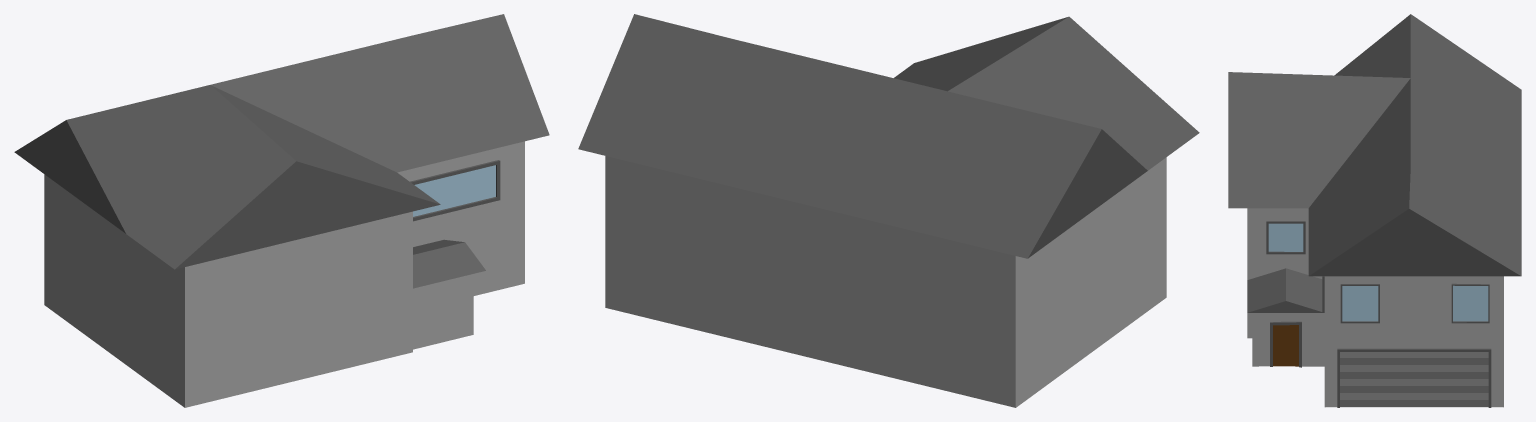
File: greyscale residential building 2.fbx
The picture shows the model from 3 angles, left to right: view 1: azimuth 30°, elevation 25°; view 2: azimuth 150°, elevation 25°; view 3: azimuth 270°, elevation 25°; orthographic projection. The views are drawn at different scales.
Visible parts, largest first — view 1: Cube; view 2: Cube; view 3: Cube.
Part boxes in pixels (left/top/right/bottom): Cube: left=14, top=14, right=549, bottom=407; Cube: left=578, top=14, right=1199, bottom=407; Cube: left=1228, top=14, right=1521, bottom=407.
Size of the model in its own units: 1191 by 599 by 758.
